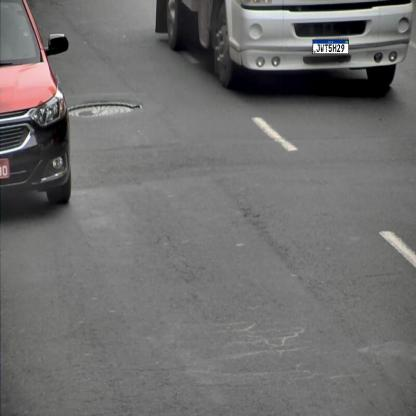PlacaM: (312, 40, 349, 54)
